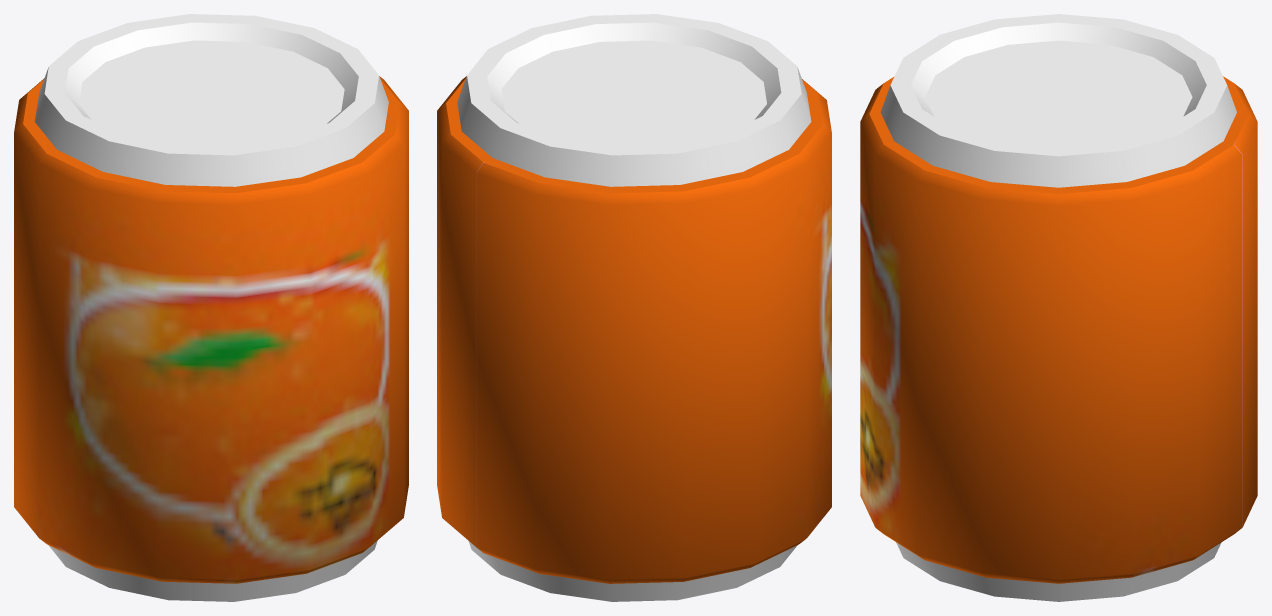
3 views of the same model, side by side, from view 1: azimuth 30°, elevation 25°; view 2: azimuth 150°, elevation 25°; view 3: azimuth 270°, elevation 25° (orthographic).
Visible parts, largest first — view 1: 12-3; view 2: 12-3; view 3: 12-3.
Part boxes in pixels (bbox=[...]): 12-3: bbox=[14, 14, 408, 601]; 12-3: bbox=[437, 14, 831, 601]; 12-3: bbox=[860, 14, 1257, 601].
Bounding box in the file's own units: 9.38 × 11.61 × 9.38.
